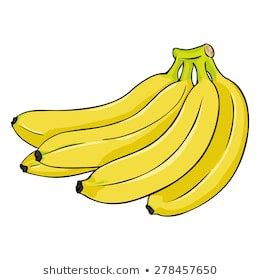banana: (76, 77, 218, 205), (34, 76, 196, 172), (145, 73, 250, 220), (9, 69, 181, 149)
